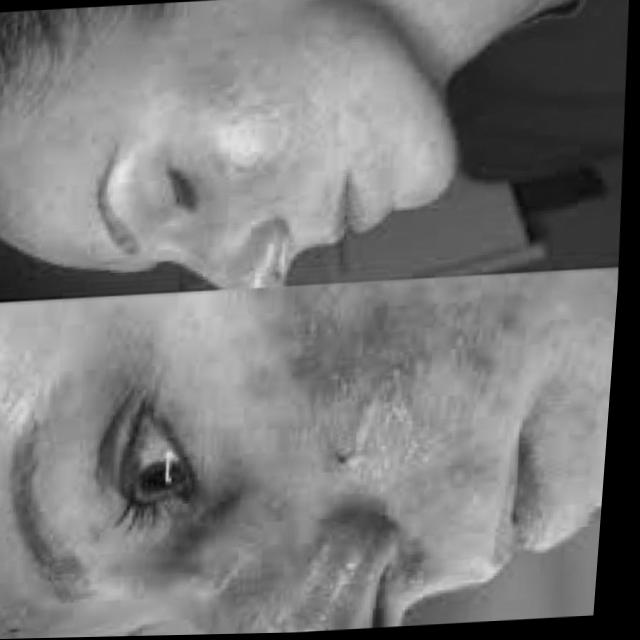Rosacea: (251, 290, 519, 443), (197, 514, 357, 635), (178, 66, 308, 186), (0, 597, 65, 640)
